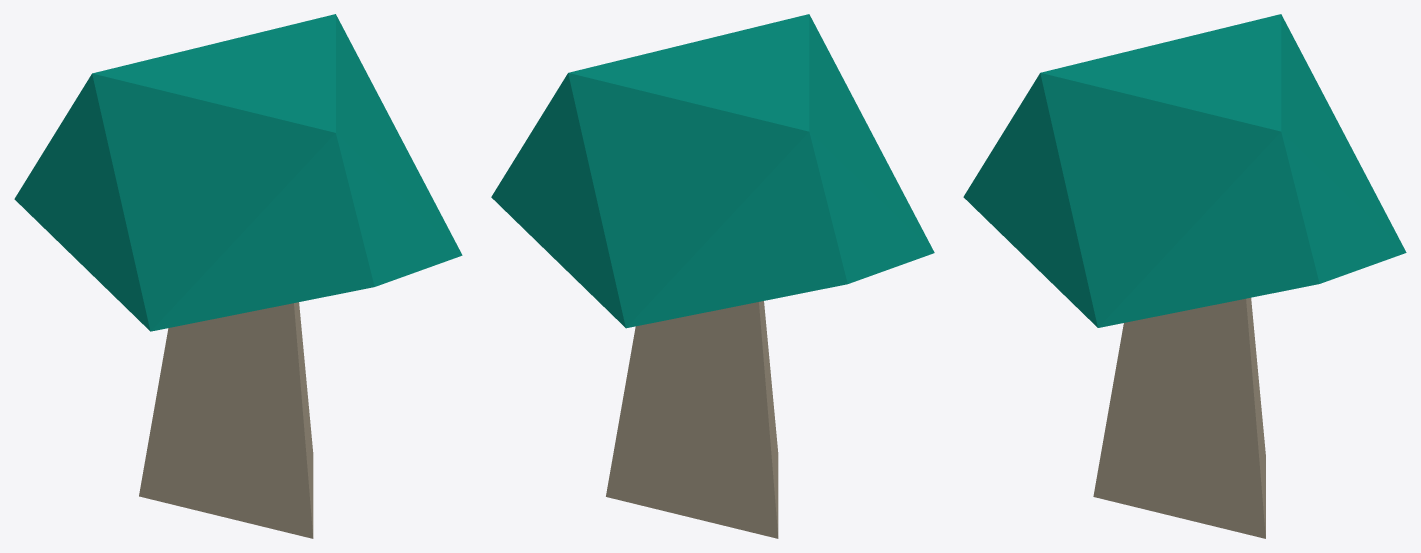
The model's file is TB_Env_Mushrm_Small_C.FBX.
3 views of the same model, side by side, from view 1: azimuth 30°, elevation 25°; view 2: azimuth 150°, elevation 25°; view 3: azimuth 270°, elevation 25° (orthographic).
Visible parts, largest first — view 1: TB_Env_Mushrm_Small_C; view 2: TB_Env_Mushrm_Small_C; view 3: TB_Env_Mushrm_Small_C.
Boxes of the visible parts, x1,y1,x2,y2 form: TB_Env_Mushrm_Small_C: [14, 14, 462, 538]; TB_Env_Mushrm_Small_C: [491, 14, 934, 538]; TB_Env_Mushrm_Small_C: [963, 14, 1406, 538].
Bounding box in the file's own units: 0.1017 × 0.1151 × 0.1096.
